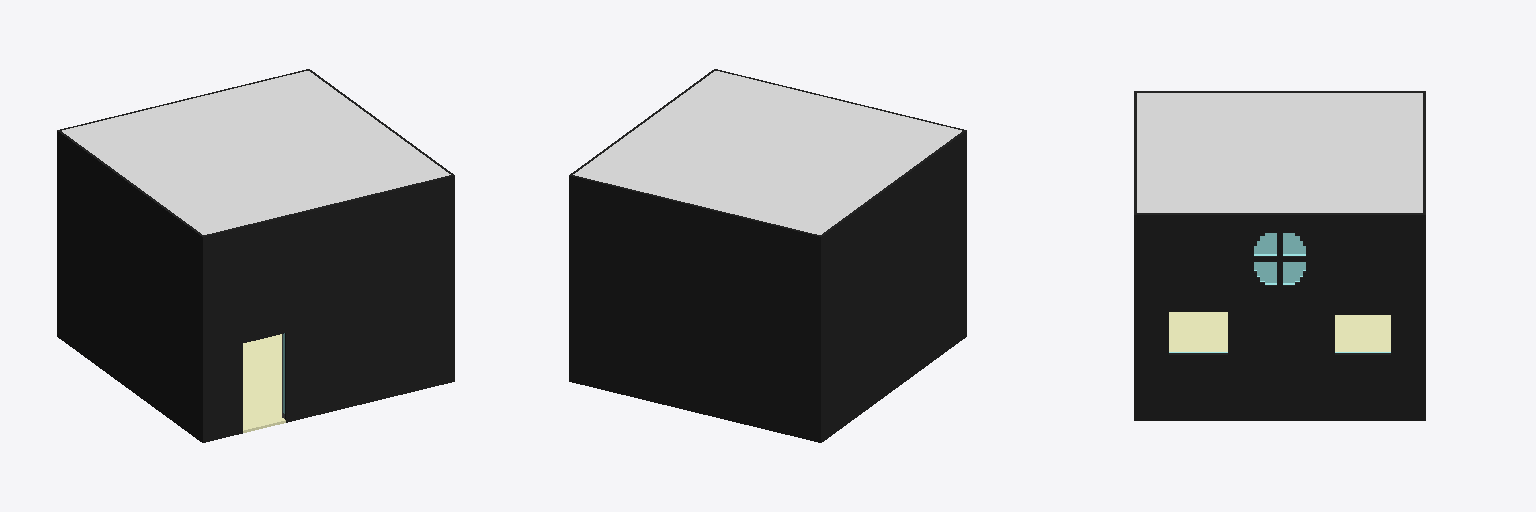
The picture shows the model from 3 angles: view 1: azimuth 30°, elevation 25°; view 2: azimuth 150°, elevation 25°; view 3: azimuth 270°, elevation 25°; orthographic projection.
Parts seen in each view (by area): view 1: object 1; view 2: object 1; view 3: object 1.
Part boxes in pixels (x1,y1,x2,y2): object 1: (57, 69, 454, 442); object 1: (569, 69, 966, 442); object 1: (1134, 91, 1425, 420).
Size of the model in its own units: 10 by 7.8 by 10.
Materials: 1 (1 with a texture image).